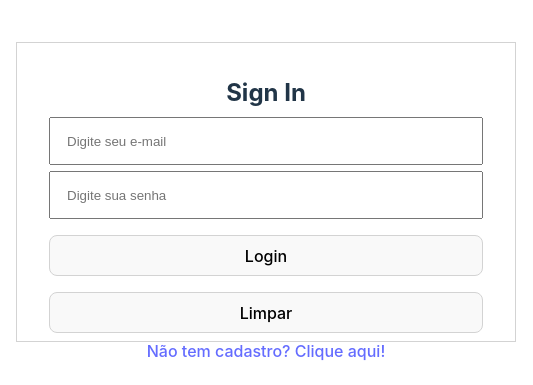
Tests the Login page › should go to SignUp page when clicks on Cadastro
The image size is (533, 385).
Click the link "Não tem cadastro? Clique aqui!" at point(267, 351), box [147,341,386,361]
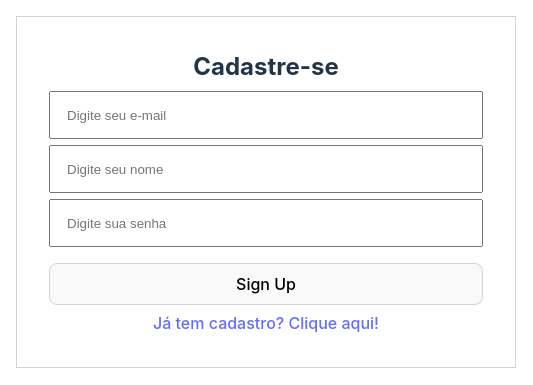
Check: the heading "Cadastre-se" is shown, box [193,52,339,81]
